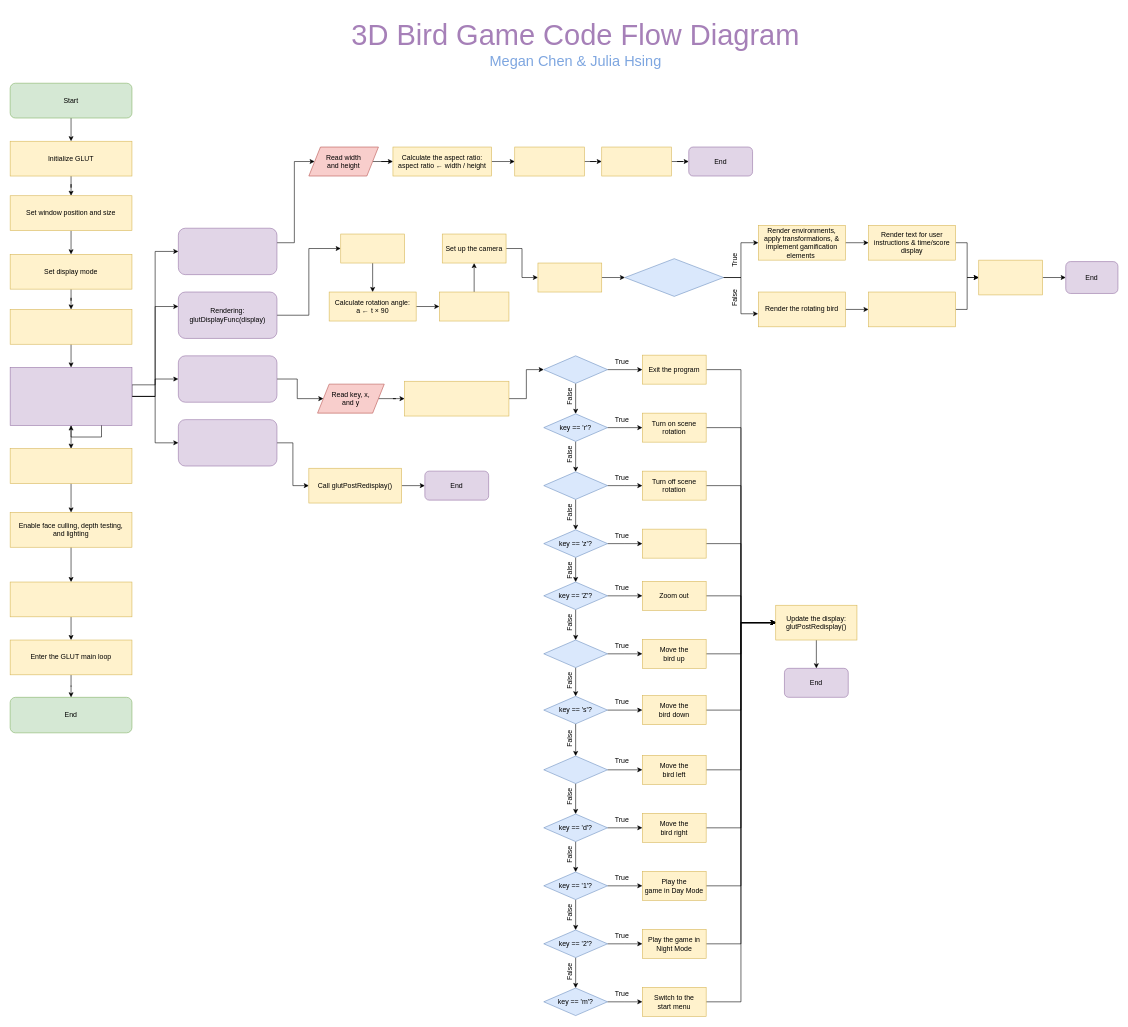
Some shapes in this 1128 by 1027 pixel diagram are drawn without their labels. The shapes that lost their labels are listed below. From the top down, each one's box as (x1, y1, x2, y2) in pixels, then its label:
(514, 146, 584, 176): Set the viewport
(601, 146, 671, 176): Set the projection matrix, frustum, and modelview matrix
(178, 228, 277, 275): Window resize: glutReshapeFunc(resize)
(340, 233, 405, 263): Get the elapsed time (t)
(537, 262, 602, 292): Render the scene
(624, 258, 724, 296): START == true?
(978, 260, 1043, 295): Swap buffers to display the rendered image
(439, 291, 509, 321): Clear the color and depth buffers
(868, 291, 956, 327): Render text for start and "Game Over" menus
(10, 309, 132, 344): Create "CS155 Final Project" window
(178, 355, 277, 402): Keyboard input: glutKeyboardFunc(key)
(543, 355, 608, 383): key == 'q'?
(10, 367, 132, 425): Register callback functions
(404, 381, 509, 416): Switch conditional expression: switch (key)
(178, 419, 277, 466): Idle tasks: glutIdleFunc(idle)
(10, 448, 132, 483): Set clear color
(543, 471, 608, 499): key == 't'?
(642, 529, 706, 558): Zoom in
(10, 581, 132, 617): Set up lighting and material properties for lighting
(543, 639, 608, 668): key == 'w'?
(543, 755, 608, 784): key == 'a'?
